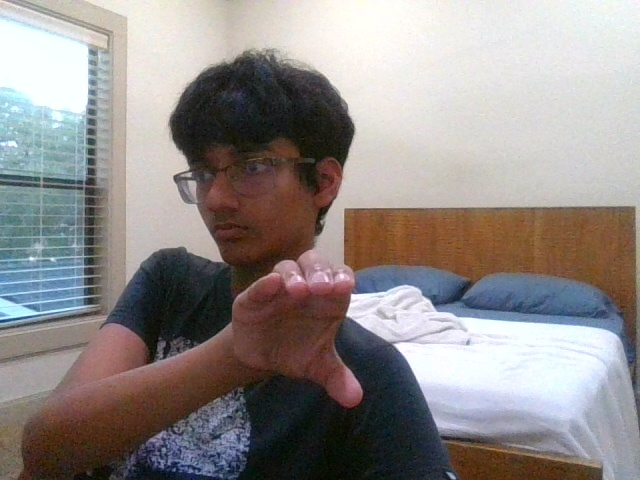no: (232, 250, 364, 407)
